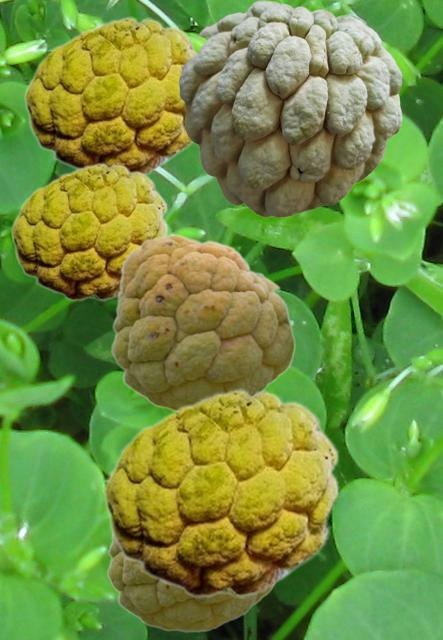atis: (102, 388, 339, 597), (178, 0, 401, 216), (110, 233, 294, 410), (23, 16, 198, 174), (10, 162, 167, 300), (106, 533, 274, 631)
